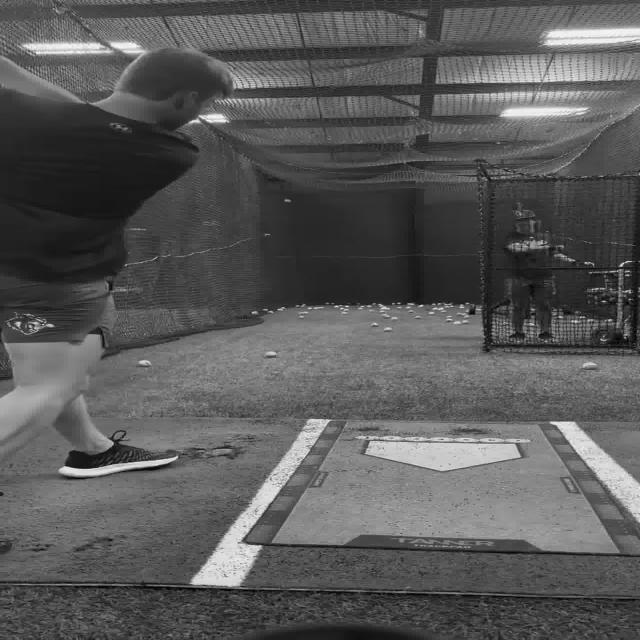base: (365, 438, 522, 472)
baseball: (580, 362, 598, 370), (137, 360, 151, 367), (264, 351, 276, 358), (370, 323, 378, 327), (383, 327, 391, 331), (287, 200, 292, 203)
shoe: (57, 432, 179, 478), (537, 332, 559, 342), (508, 331, 526, 340), (537, 331, 552, 339)
